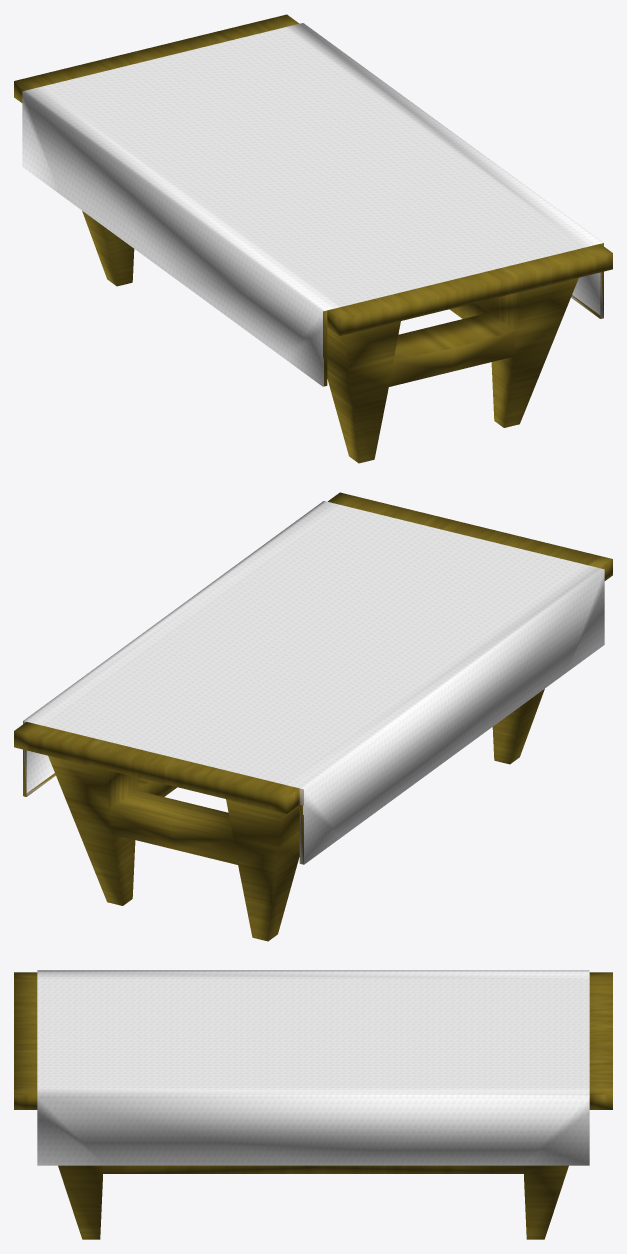
The model's file is table.obj.
The picture shows the model from 3 angles, top to bottom: view 1: azimuth 30°, elevation 25°; view 2: azimuth 150°, elevation 25°; view 3: azimuth 270°, elevation 25°; orthographic projection. The views are drawn at different scales.
Parts seen in each view (by area): view 1: Cube; view 2: Cube; view 3: Cube.
Part boxes in pixels (bbox=[...]): Cube: bbox=[14, 14, 612, 463]; Cube: bbox=[14, 492, 612, 941]; Cube: bbox=[14, 970, 612, 1239].
Bounding box in the file's own units: 3.53 × 2.22 × 7.1.
1 material, 1 textured.
